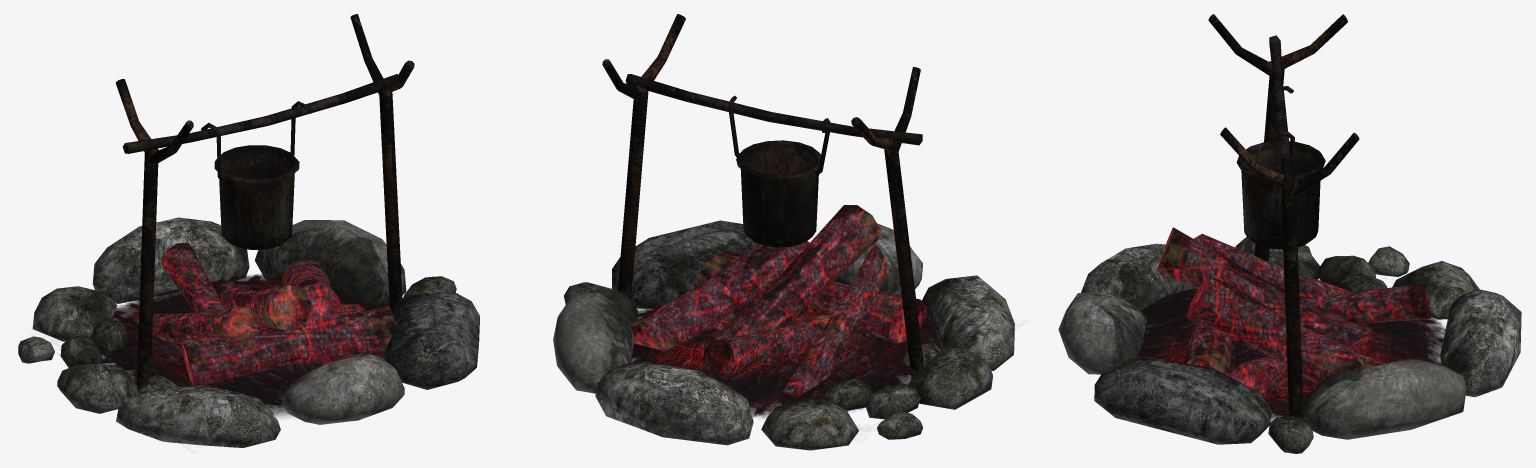
Rendered from bonfire_and_pot.glb.
The picture shows the model from 3 angles, left to right: view 1: azimuth 30°, elevation 25°; view 2: azimuth 150°, elevation 25°; view 3: azimuth 270°, elevation 25°; orthographic projection. The views are drawn at different scales.
Parts seen in each view (by area): view 1: Bonfire.001; view 2: Bonfire.001; view 3: Bonfire.001.
Part boxes in pixels (left/top/right/bottom): Bonfire.001: left=18, top=14, right=479, bottom=447; Bonfire.001: left=553, top=14, right=1014, bottom=450; Bonfire.001: left=1058, top=14, right=1521, bottom=453.
Size of the model in its own units: 607 by 429 by 588.
2 materials, 2 textured.
